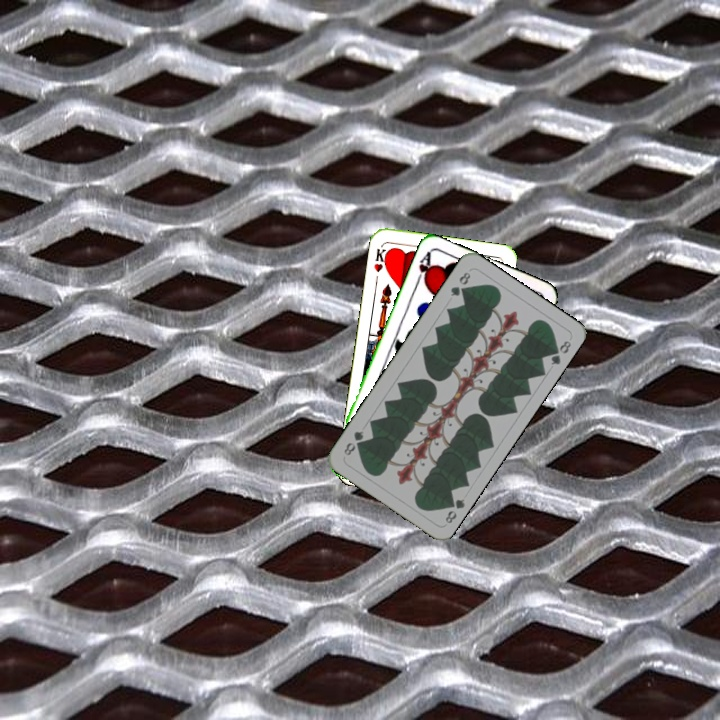G8: (441, 494, 468, 526), (446, 268, 473, 299)
HA: (412, 248, 435, 288)
HK: (370, 244, 391, 274)
